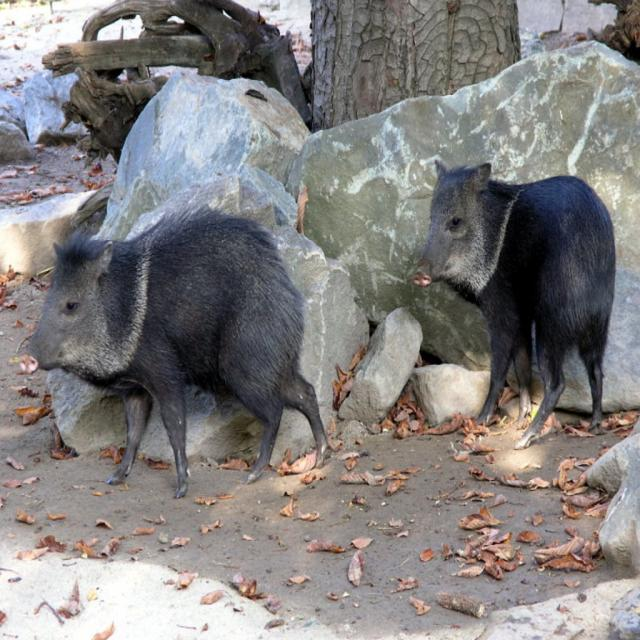Pig: (16, 198, 333, 501), (411, 154, 618, 450)
